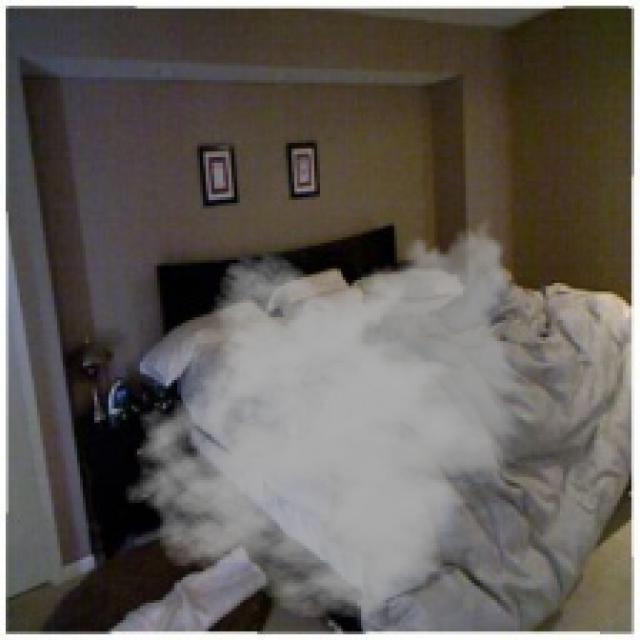smoke: (123, 211, 531, 620)
